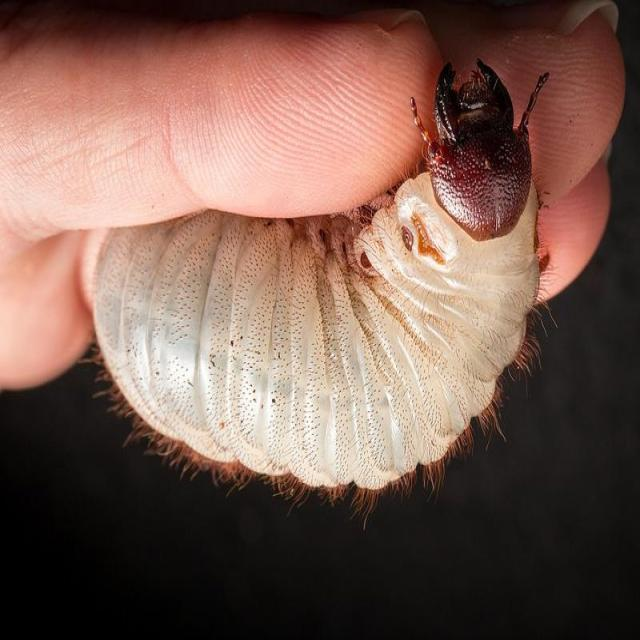grub: (87, 68, 546, 524)
